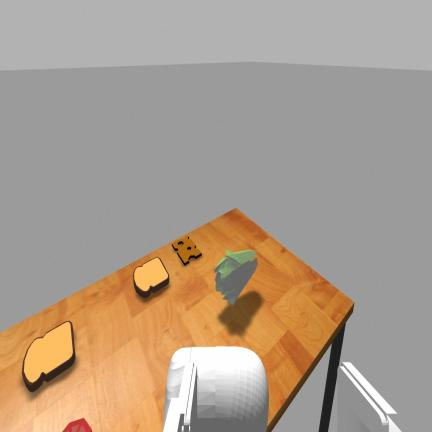cheese: (172, 236, 201, 265)
lettuce: (215, 250, 257, 305)
sliced_bread: (22, 321, 75, 391), (134, 257, 169, 297)
sliced_tomato: (63, 418, 91, 431)
